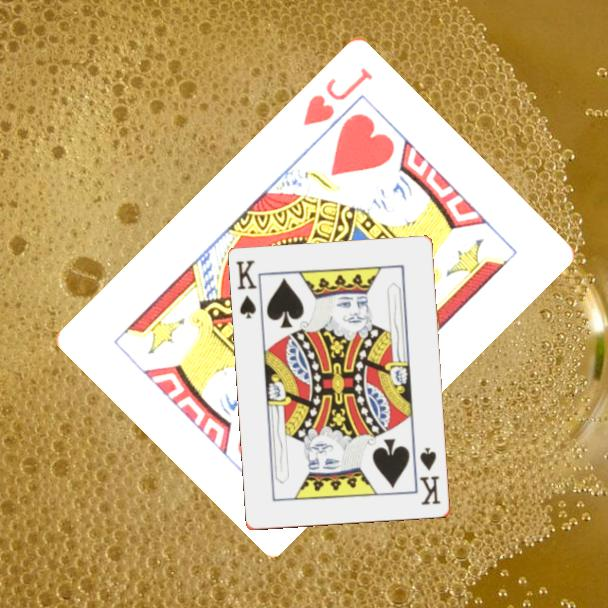h11: (299, 63, 376, 129)
s13: (416, 444, 444, 508), (233, 257, 260, 322)
